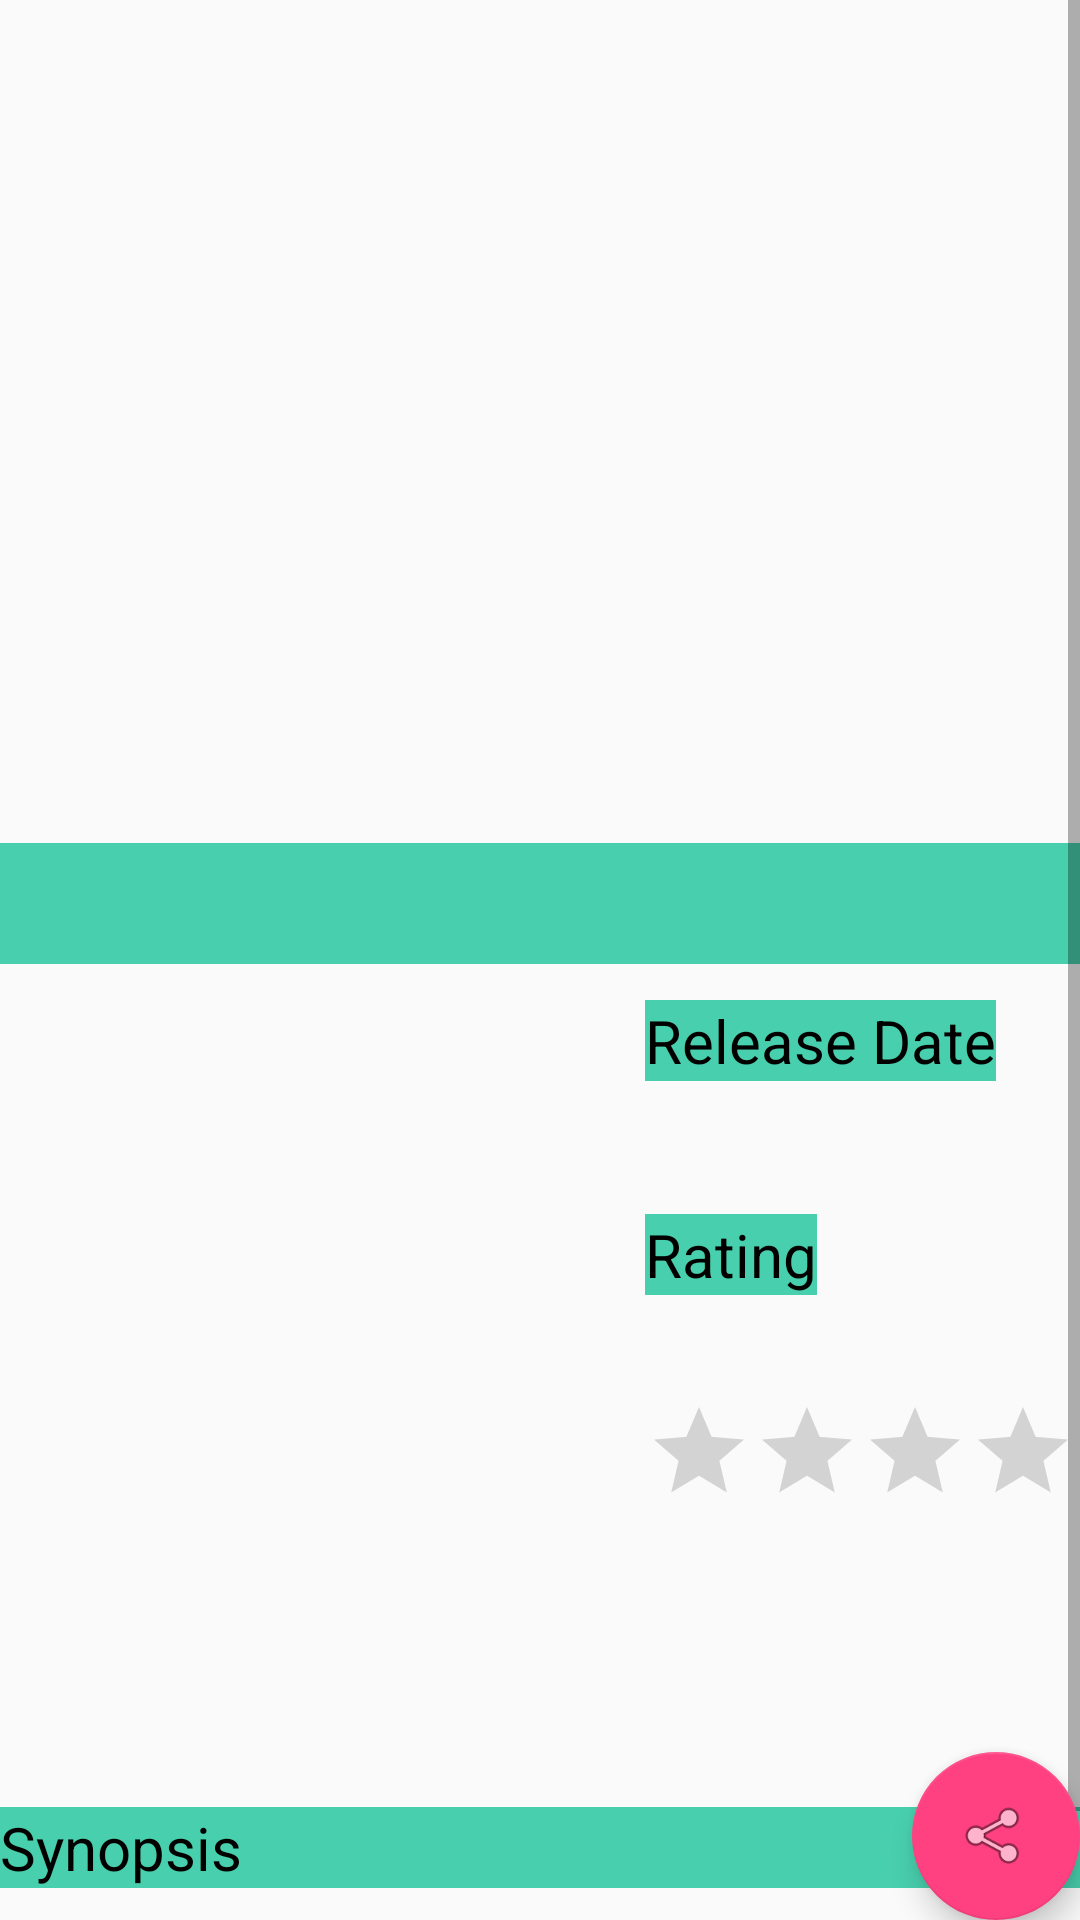

Where icons sit on this 1080px x 1920px app screen, as (x1=x1, y1=y1, x2=x2, y2=y2):
share: (x1=912, y1=1752, x2=1080, y2=1920)
